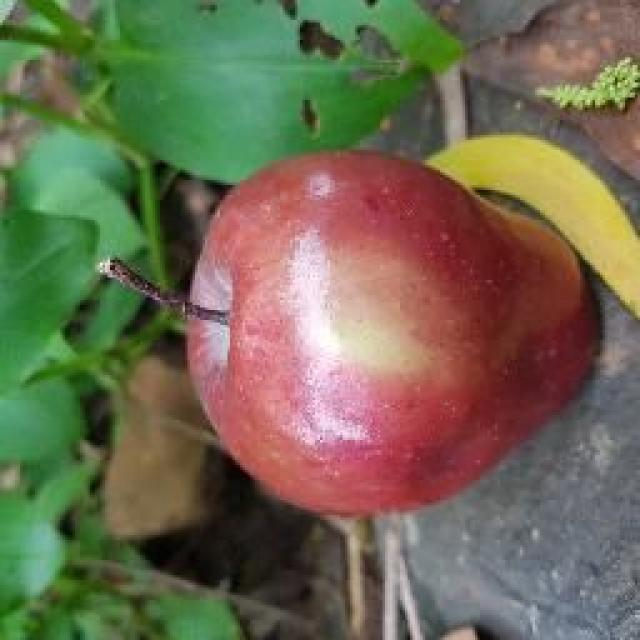Good_Apple: (185, 150, 602, 520)
